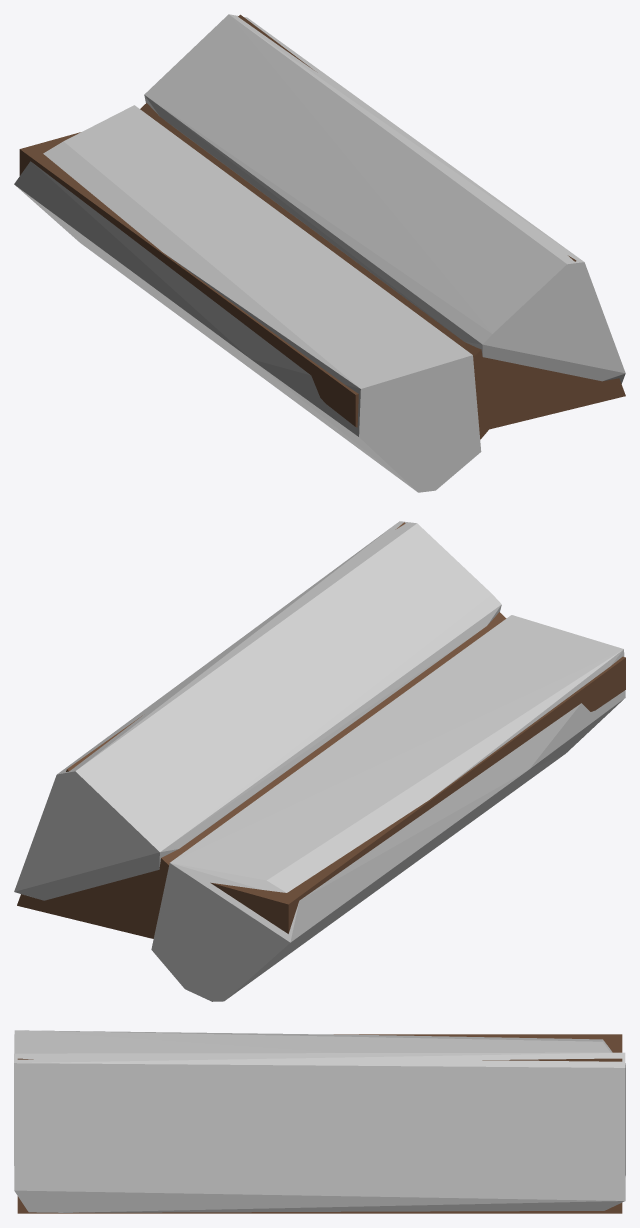
The model's file is SM_Bld_Roof_Trim_Half_01.fbx.
The picture shows the model from 3 angles, top to bottom: view 1: azimuth 30°, elevation 25°; view 2: azimuth 150°, elevation 25°; view 3: azimuth 270°, elevation 25°; orthographic projection. The views are drawn at different scales.
Parts seen in each view (by area): view 1: SM_Bld_Roof_Trim_Half_01_ConvexHulls, SM_Bld_Roof_Trim_Half_01; view 2: SM_Bld_Roof_Trim_Half_01_ConvexHulls, SM_Bld_Roof_Trim_Half_01; view 3: SM_Bld_Roof_Trim_Half_01_ConvexHulls, SM_Bld_Roof_Trim_Half_01.
Part boxes in pixels (x1,y1,x2,y2): SM_Bld_Roof_Trim_Half_01_ConvexHulls: (14, 14, 625, 492); SM_Bld_Roof_Trim_Half_01: (19, 14, 625, 439); SM_Bld_Roof_Trim_Half_01_ConvexHulls: (14, 521, 625, 1001); SM_Bld_Roof_Trim_Half_01: (17, 522, 625, 938); SM_Bld_Roof_Trim_Half_01_ConvexHulls: (14, 1030, 625, 1212); SM_Bld_Roof_Trim_Half_01: (17, 1034, 622, 1213).
Size of the model in its own units: 59.3 by 126 by 40.26.
2 materials, 1 textured.
